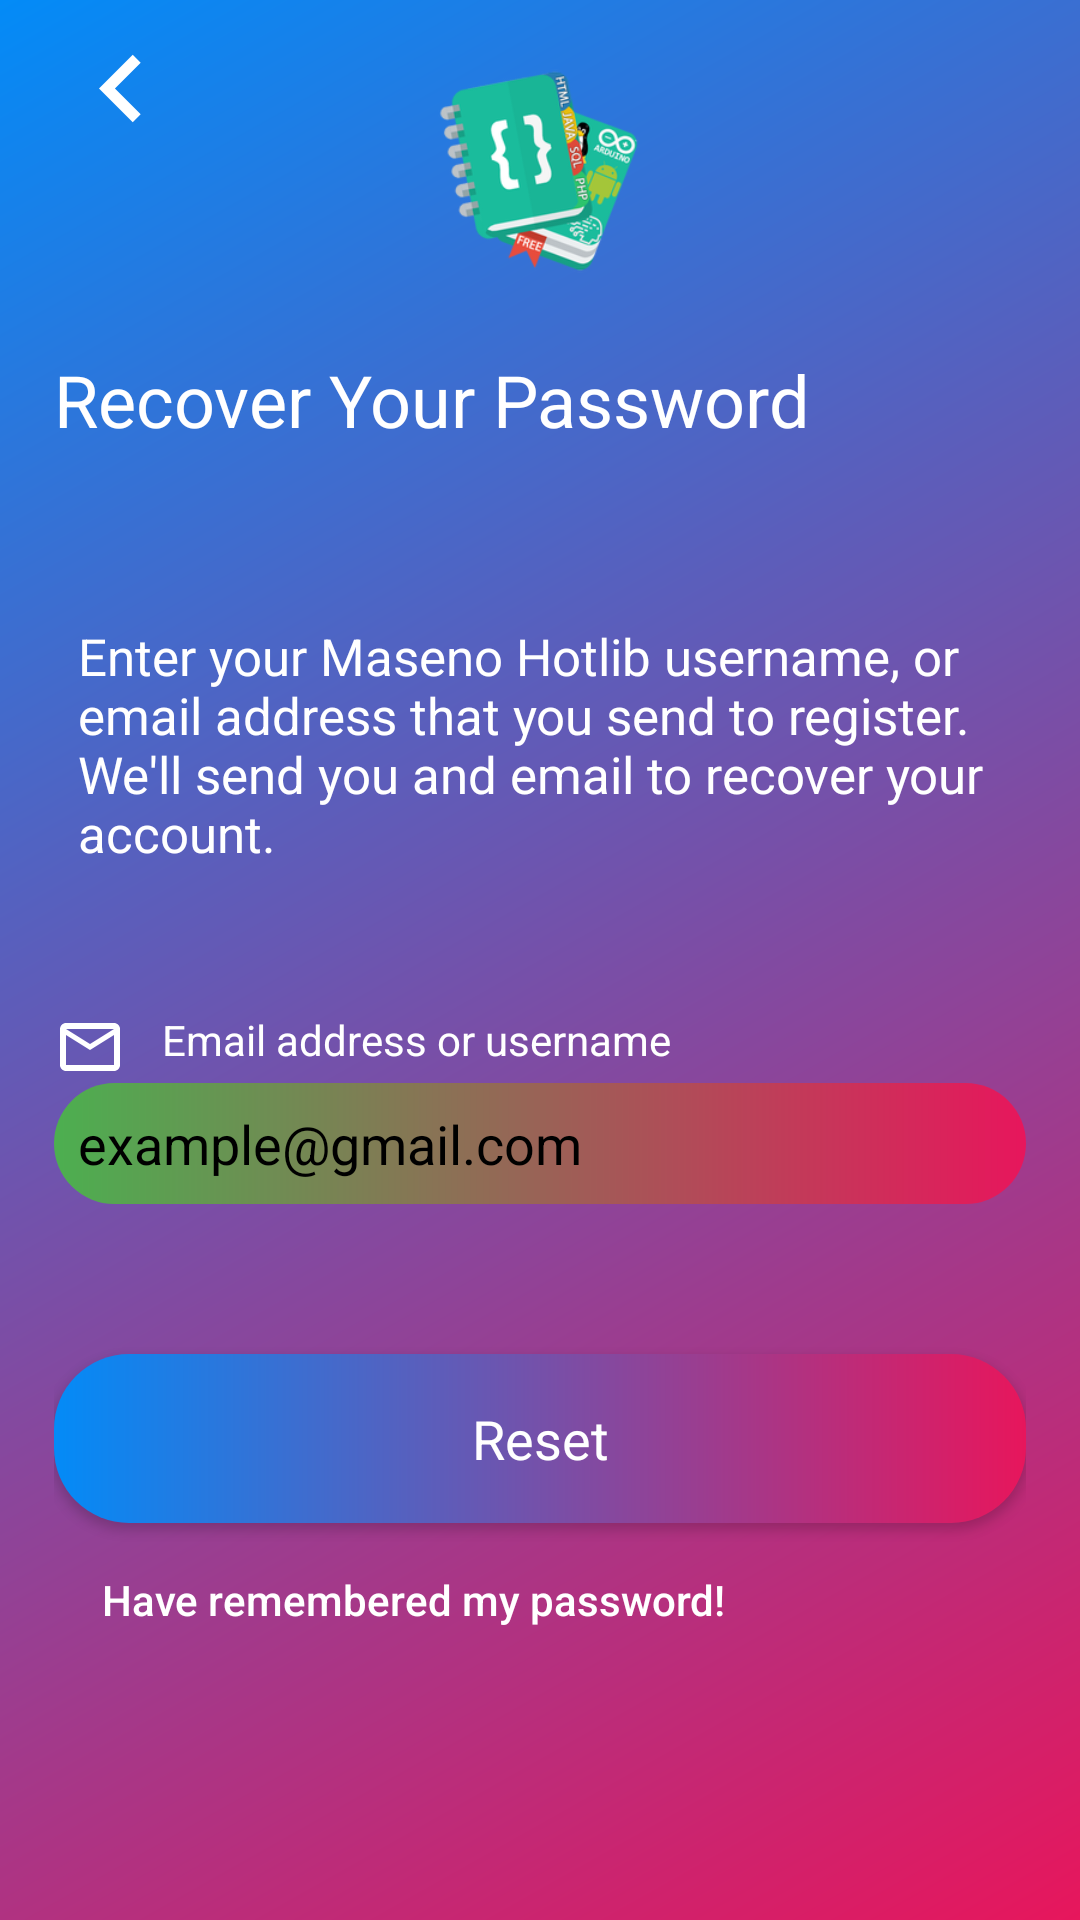

Screen size 1080 x 1920. Icon name, then its box in pixels as bbox=[x1, y1, x2, y2]:
gobacktologinpage: bbox=[99, 55, 141, 122]
